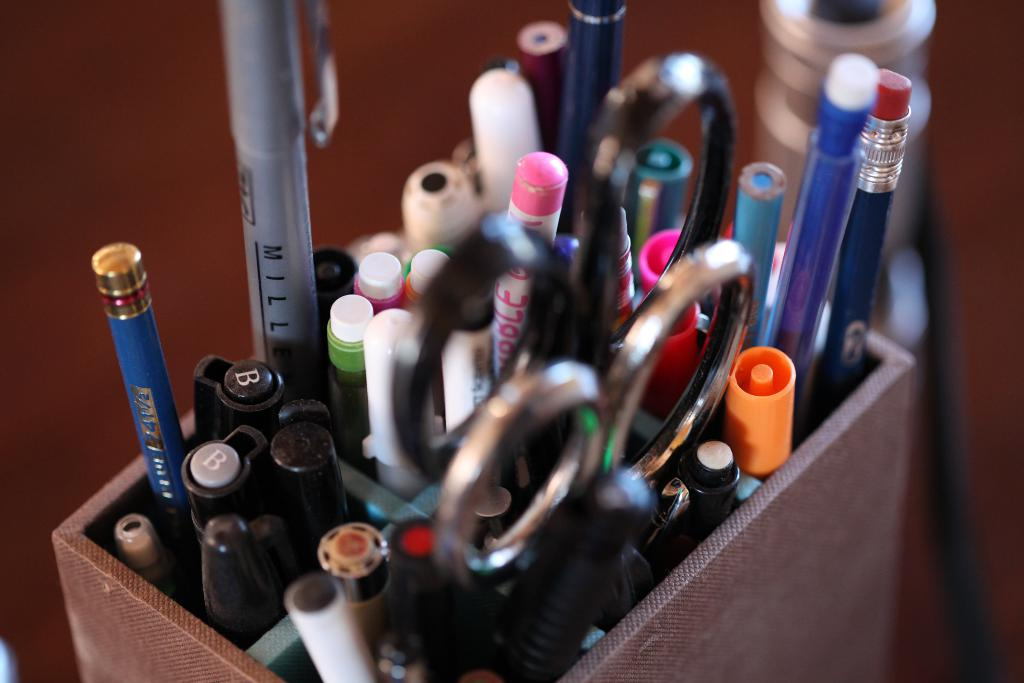Pen: (183, 351, 372, 645), (734, 54, 878, 426), (323, 249, 498, 501), (291, 519, 472, 682), (549, 0, 631, 235), (682, 435, 742, 554), (120, 508, 171, 615)
